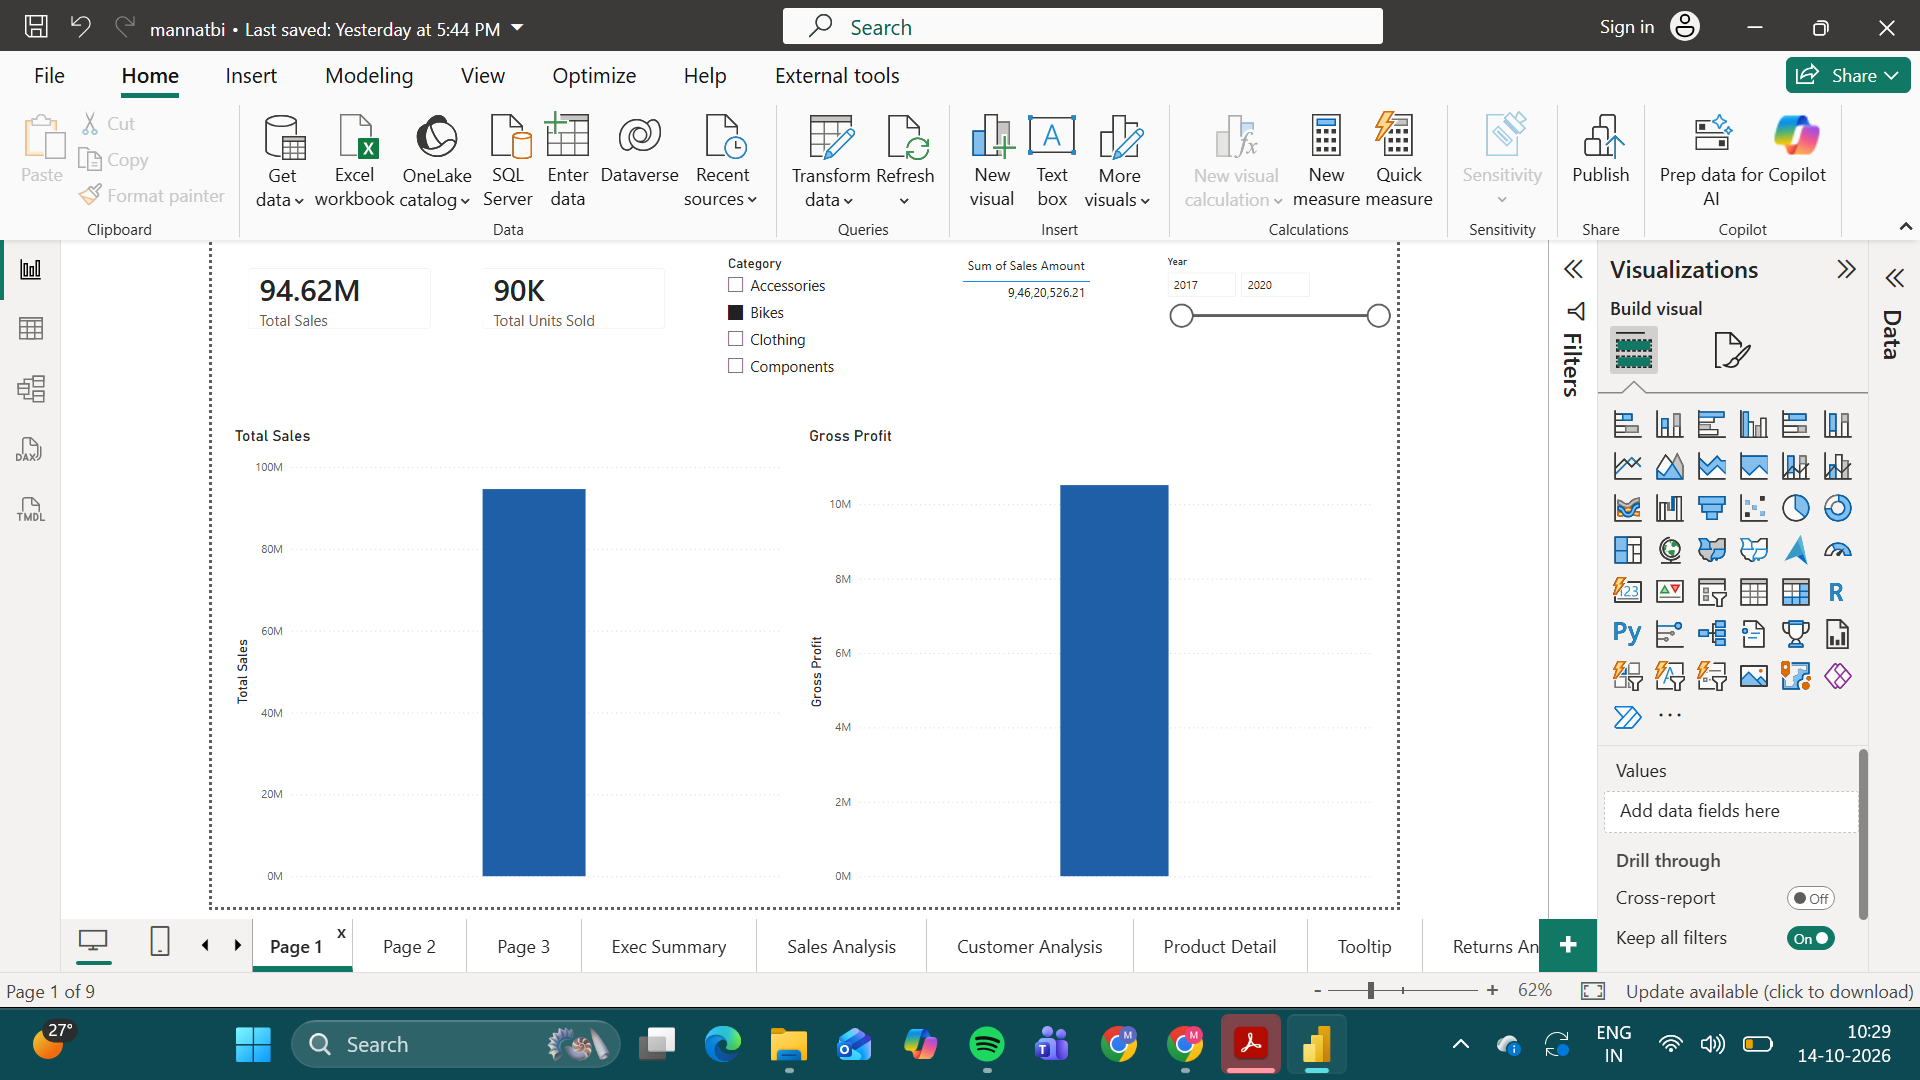

The dashboard page shown, as its layout file describes it:
{"tool":"powerbi","page":{"name":"Page 1","canvas":[1280,720],"ordinal":0},"visuals":[{"type":"cardVisual","fields":{"Data":["Sum(Sales.Sales Amount)"]},"box":[9.4,0,283.5,279.7],"z":0},{"type":"tableEx","fields":{"Values":["Sum(Sales.Sales Amount)"]},"box":[292.9,0,283,280],"z":1000},{"type":"clusteredColumnChart","fields":{"Y":["Sum(Sales.Sales Amount)"]},"box":[9.4,289.1,1181.1,430.9],"z":2000}]}

Visuals, with their boxes on the page's 1280x720 design canvas (x1, y1, x2, y2). These are canvas units, not pixel positions in the 1920x1080 screenshot, which may show the page scaled, cropped or inside an application window:
cardVisual - Sum(Sales.Sales Amount): select_region(9, 0, 293, 280)
tableEx - Sum(Sales.Sales Amount): select_region(293, 0, 576, 280)
clusteredColumnChart - Sum(Sales.Sales Amount): select_region(9, 289, 1190, 720)
